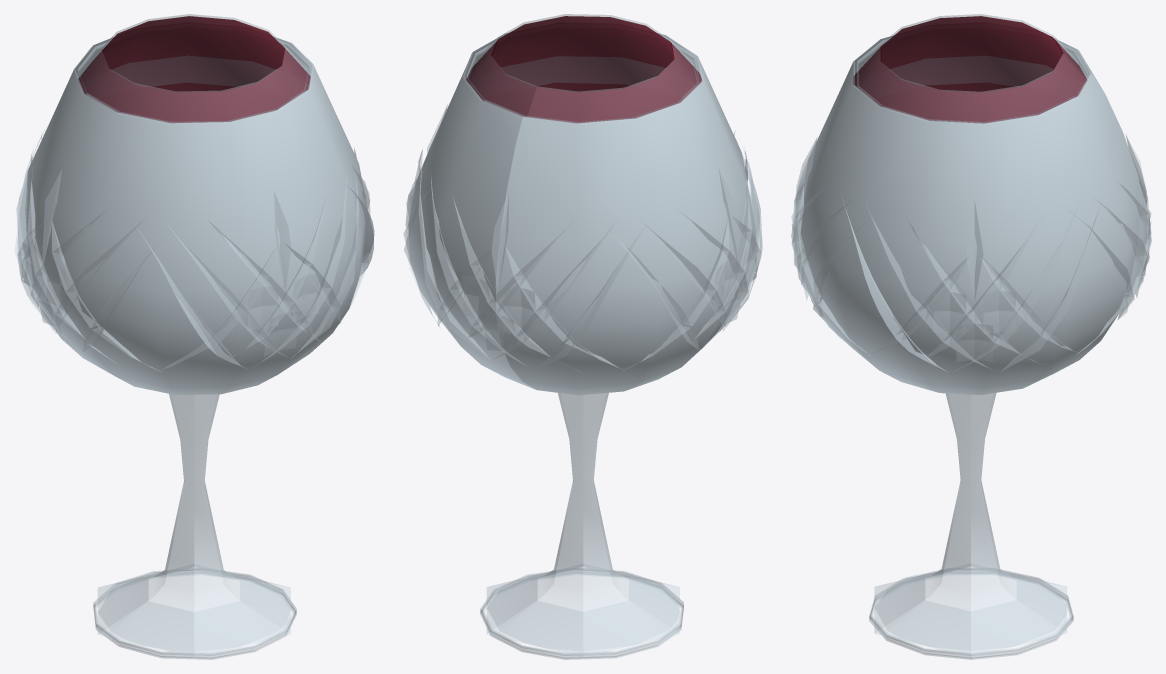
The model's file is wineglass.glb.
3 renders of one model, left to right at view 1: azimuth 30°, elevation 25°; view 2: azimuth 150°, elevation 25°; view 3: azimuth 270°, elevation 25°, orthographic.
Visible parts, largest first — view 1: glass, wine; view 2: glass, wine; view 3: glass, wine.
Boxes of the visible parts, bbox=[...] form: glass: bbox=[15, 14, 374, 659]; wine: bbox=[78, 16, 310, 122]; glass: bbox=[403, 14, 762, 659]; wine: bbox=[466, 16, 701, 122]; glass: bbox=[791, 14, 1151, 659]; wine: bbox=[853, 16, 1087, 123].
Size of the model in its own units: 0.0986 by 0.17 by 0.0986.
